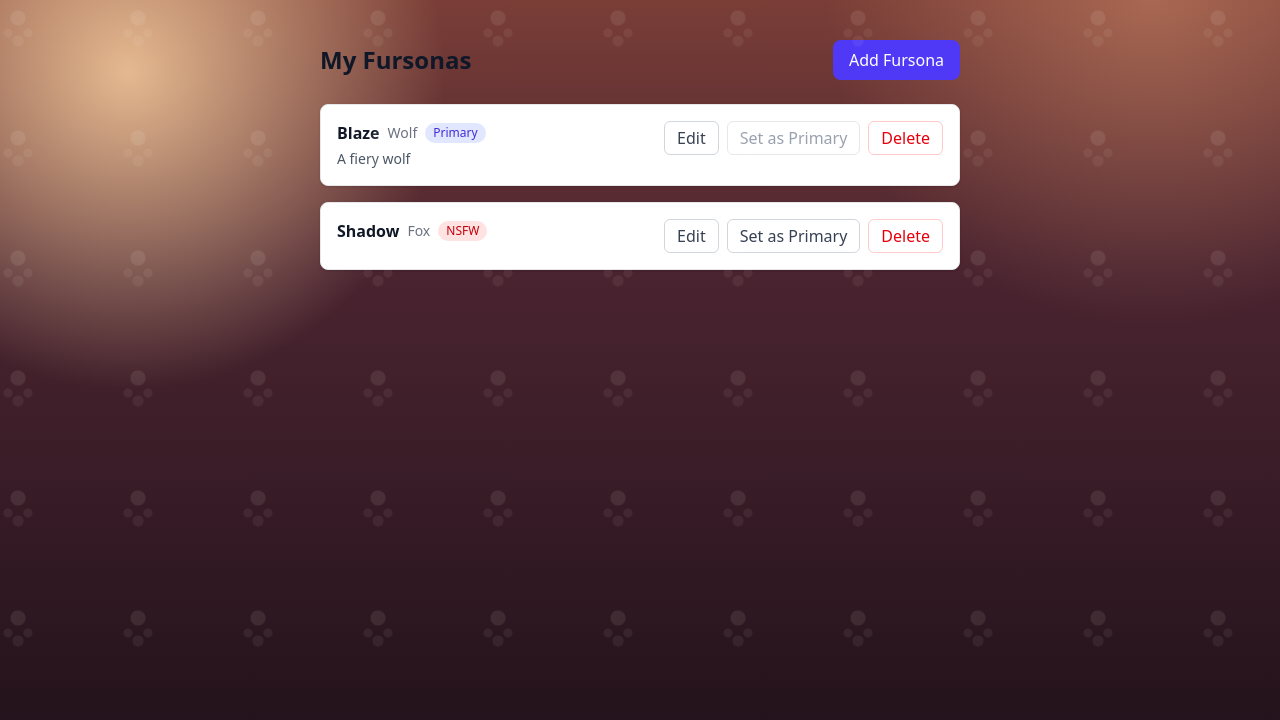
FursonaManagerPage › opens the edit form with fursona values populated
The image size is (1280, 720).
Step 1. Click the button "Edit" in the row of "A fiery wolf" → (691, 138), box [664, 121, 719, 155]
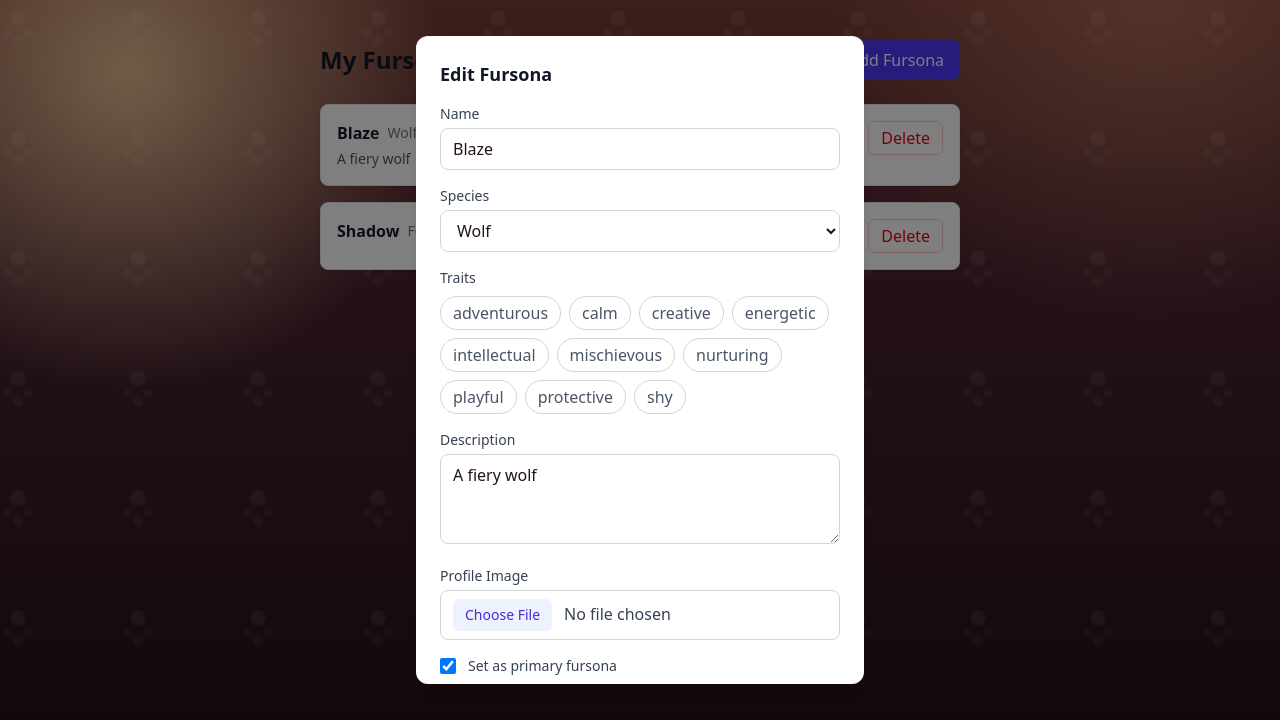
Result: the field labelled "Name" holds "Blaze" at [440, 128, 840, 170]
Result: the dropdown labelled "Species" shows "Wolf" at [440, 210, 840, 252]
